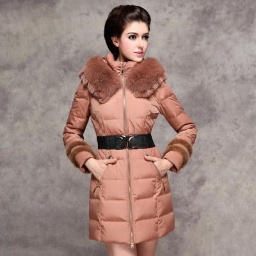face: (98, 1, 159, 75)
